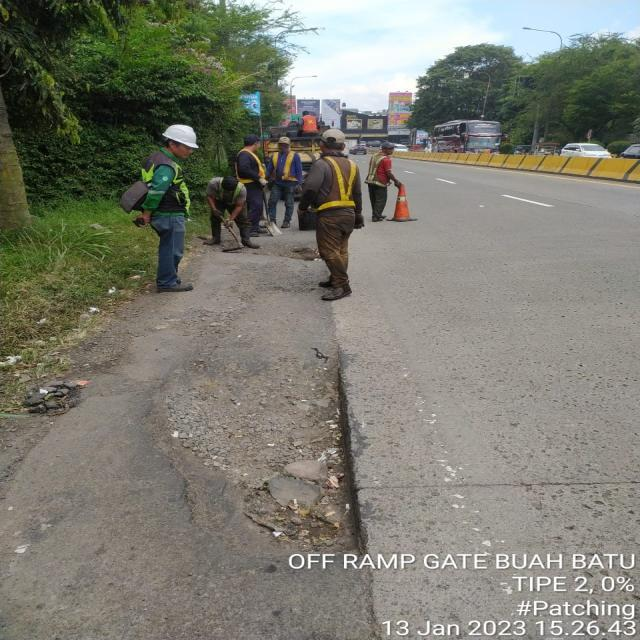Buraco: (134, 345, 373, 566)
